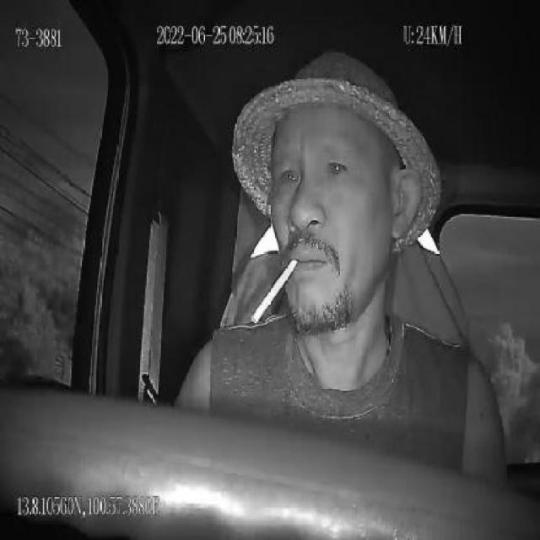smoking: (252, 256, 298, 324)
